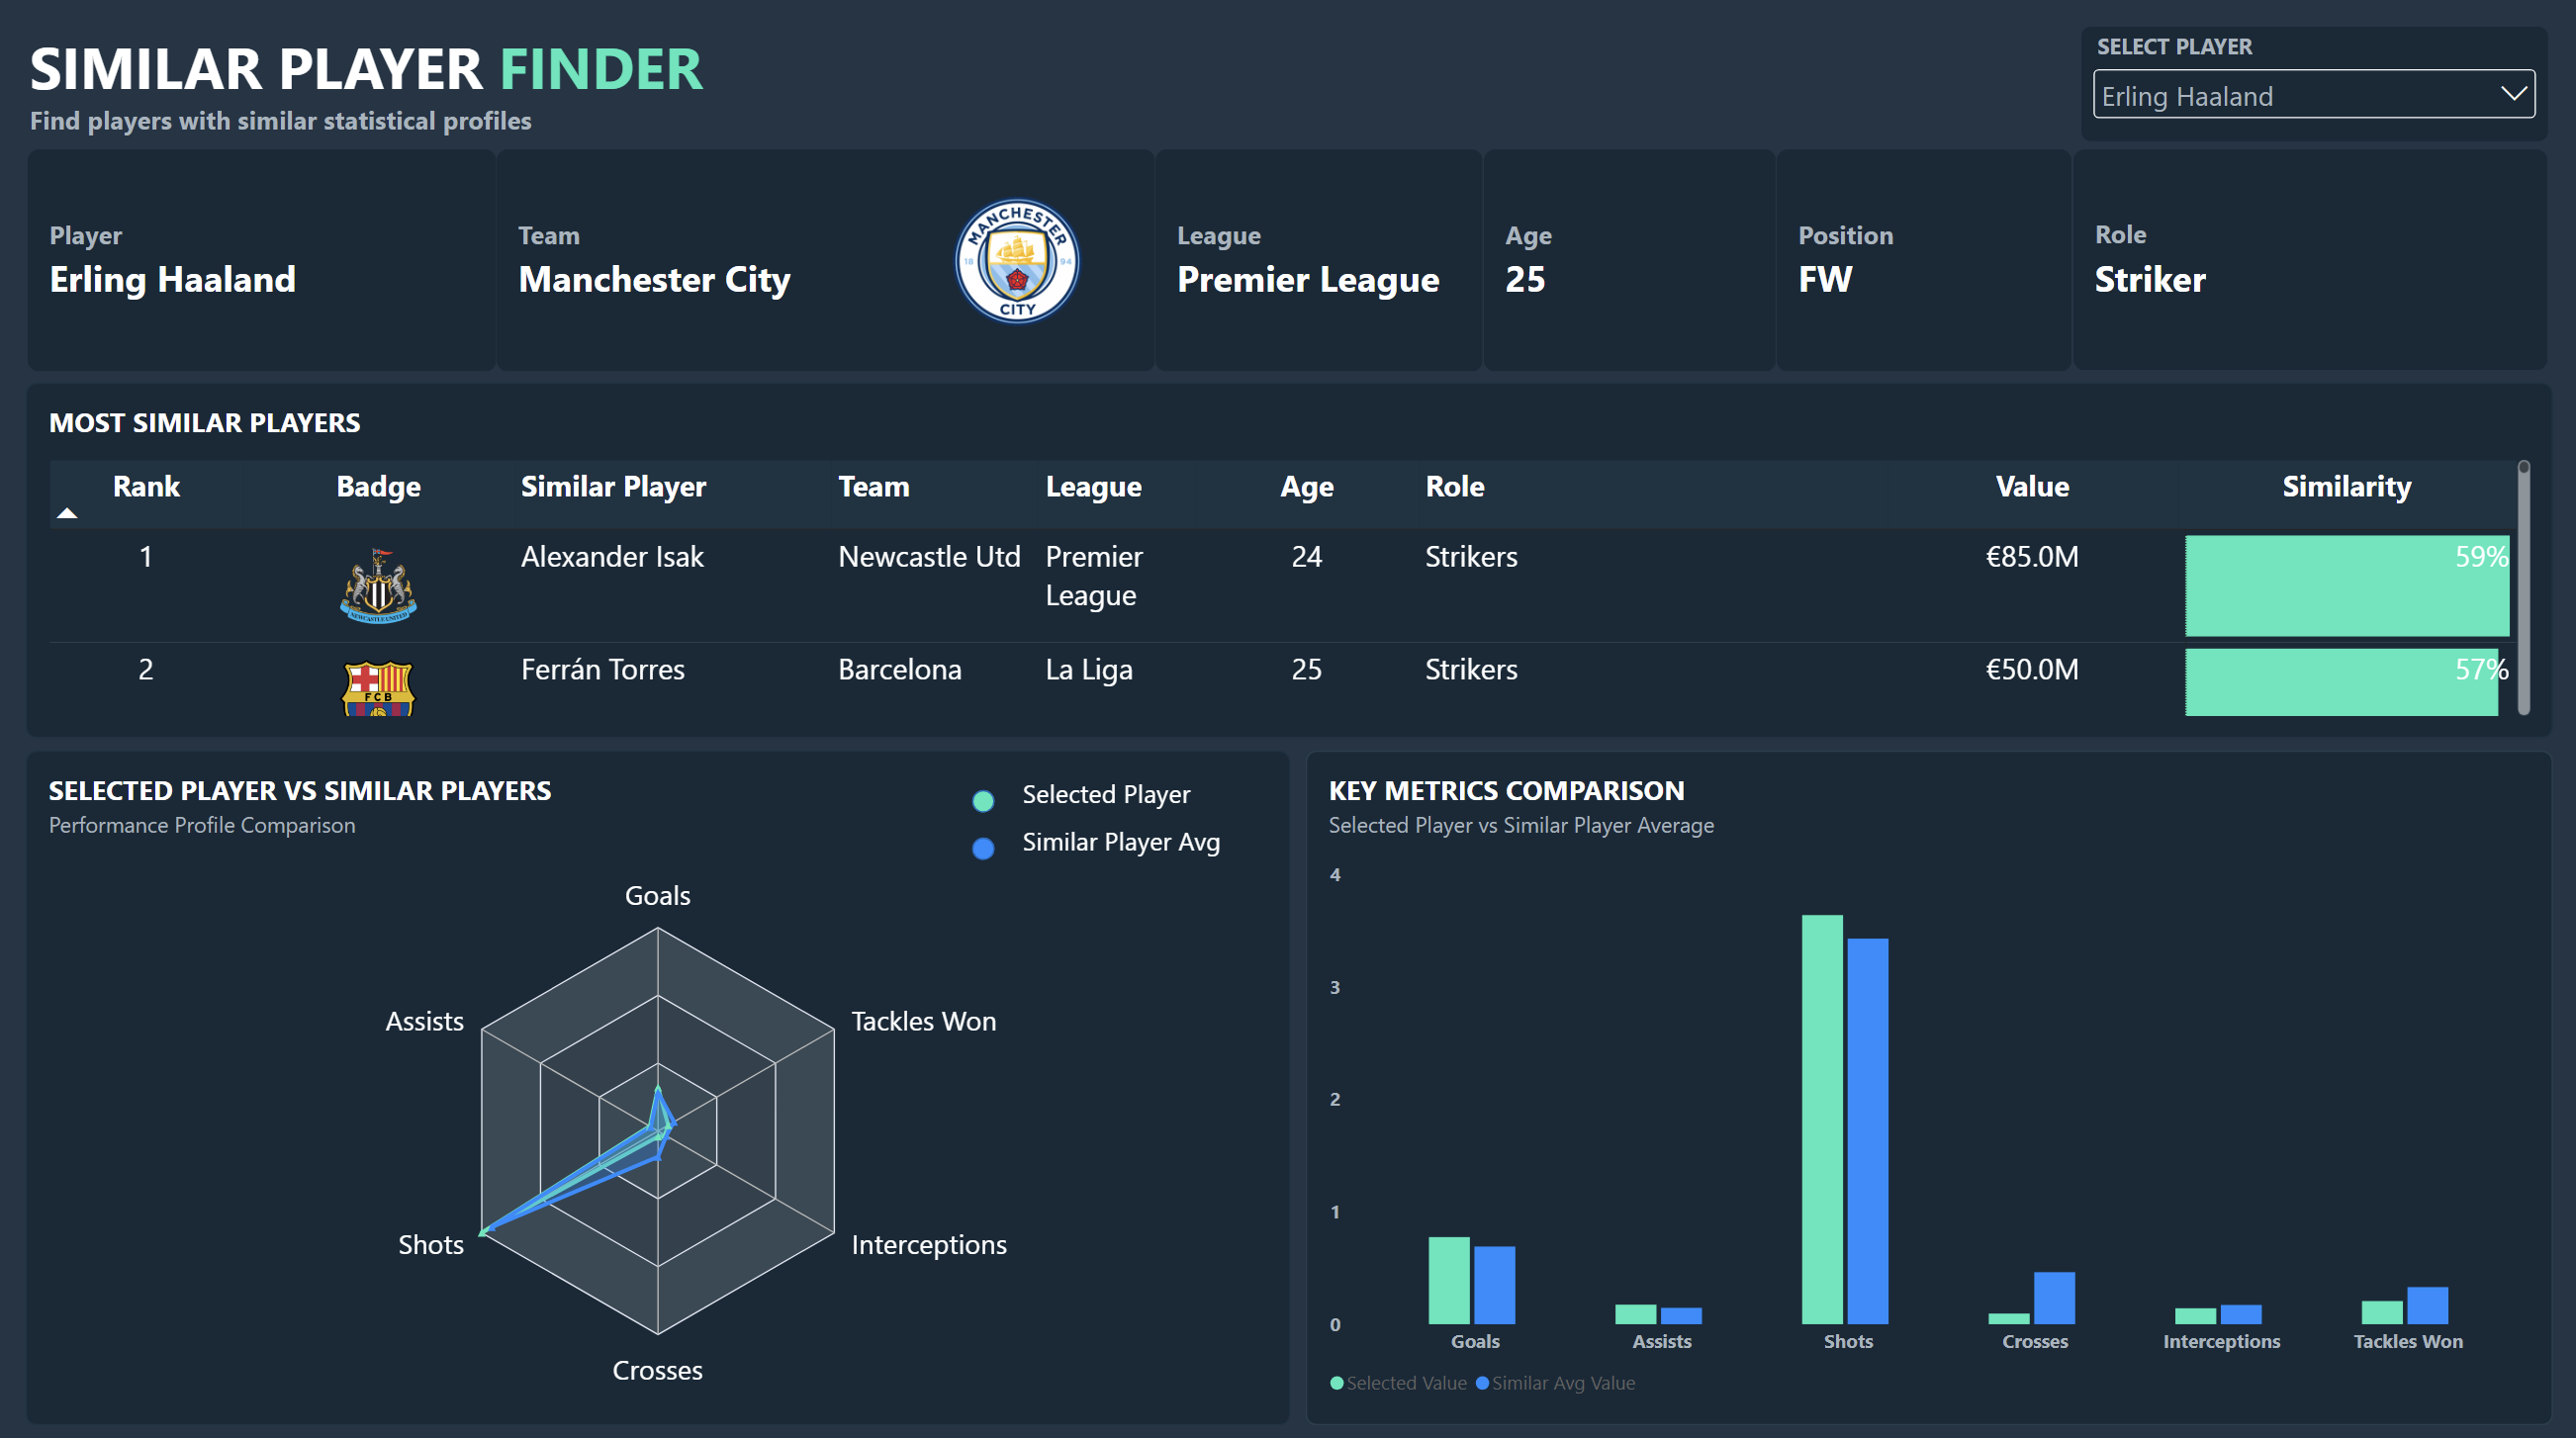

Layout of this report page (visuals, bound fields, positions):
{"tool":"powerbi","page":{"name":"Similar Players","canvas":[1920,1080],"ordinal":3},"visuals":[{"type":"textbox","box":[23.4,23.4,1876.5,86.9],"z":0},{"type":"cardVisual","fields":{"Data":["Profiles.Selected Player"]},"box":[22.5,115,348,165],"z":2000},{"type":"cardVisual","fields":{"Data":["Profiles.Selected Team"]},"box":[370,115,489,165],"z":3000},{"type":"cardVisual","fields":{"Data":["Profiles.Selected League"]},"box":[859,115,243,165.2],"z":4000},{"type":"cardVisual","fields":{"Data":["Profiles.Selected Age"]},"box":[1103,115,217.7,165.2],"z":5000},{"type":"cardVisual","fields":{"Data":["Profiles.Selected Position"]},"box":[1320.6,114.6,219,165.2],"z":6000},{"type":"cardVisual","fields":{"Data":["Profiles.Selected Role_1"]},"box":[1541,114.6,352.6,164.5],"z":7000},{"type":"tableEx","title":"MOST SIMILAR PLAYERS","fields":{"Values":["Similar.Rank","Similar.similar_badge_url","Similar.Similar Player","Similar.Similar Team","Similar.Similar League","Similar.Similar Age","Similar.Similar Role","Similar.Similar Value (EURm)","Similar.Similarity %"]},"box":[21,288,1876.4,264.2],"z":8000},{"type":"radarChart","title":"SELECTED PLAYER VS SIMILAR PLAYERS","fields":{"category":["Stat.StatName"],"measure":["Stat.Selected Value","Stat.Similar Avg Value"]},"box":[21,561.3,939,501],"z":9000},{"type":"shape","box":[720,582.3,23.6,34.1],"z":10000},{"type":"shape","box":[720,616.4,23.6,34.1],"z":11000},{"type":"textbox","box":[760.7,581,299,39.3],"z":12000},{"type":"textbox","box":[760.7,615.1,299,39.3],"z":13000},{"type":"clusteredColumnChart","title":"KEY METRICS COMPARISON","fields":{"Category":["Stat.StatName"],"Y":["Stat.Selected Value","Stat.Similar Avg Value"]},"box":[970.5,561.3,925.9,501],"z":14000},{"type":"slicer","fields":{"Values":["Profiles.Player"]},"box":[1547.5,23.6,346.7,85],"z":15000},{"type":"image","box":[667.5,135,180,125],"z":16000}]}

Visuals, with their boxes in screenshot pixels (x1, y1, x2, y2), scaled from the page's 1920x1080 canvas onto the 2576x1438 screenshot:
textbox: 32:32:2549:146
cardVisual - Profiles.Selected Player: 31:153:497:373
cardVisual - Profiles.Selected Team: 497:153:1152:373
cardVisual - Profiles.Selected League: 1152:153:1479:373
cardVisual - Profiles.Selected Age: 1480:153:1772:373
cardVisual - Profiles.Selected Position: 1772:152:2066:373
cardVisual - Profiles.Selected Role_1: 2068:152:2540:372
"MOST SIMILAR PLAYERS" tableEx: 28:384:2545:735
"SELECTED PLAYER VS SIMILAR PLAYERS" radarChart: 28:748:1288:1414
shape: 966:775:998:821
shape: 966:821:998:866
textbox: 1021:773:1422:826
textbox: 1021:819:1422:871
"KEY METRICS COMPARISON" clusteredColumnChart: 1302:748:2544:1414
slicer - Profiles.Player: 2076:32:2541:144
image: 895:180:1137:346
